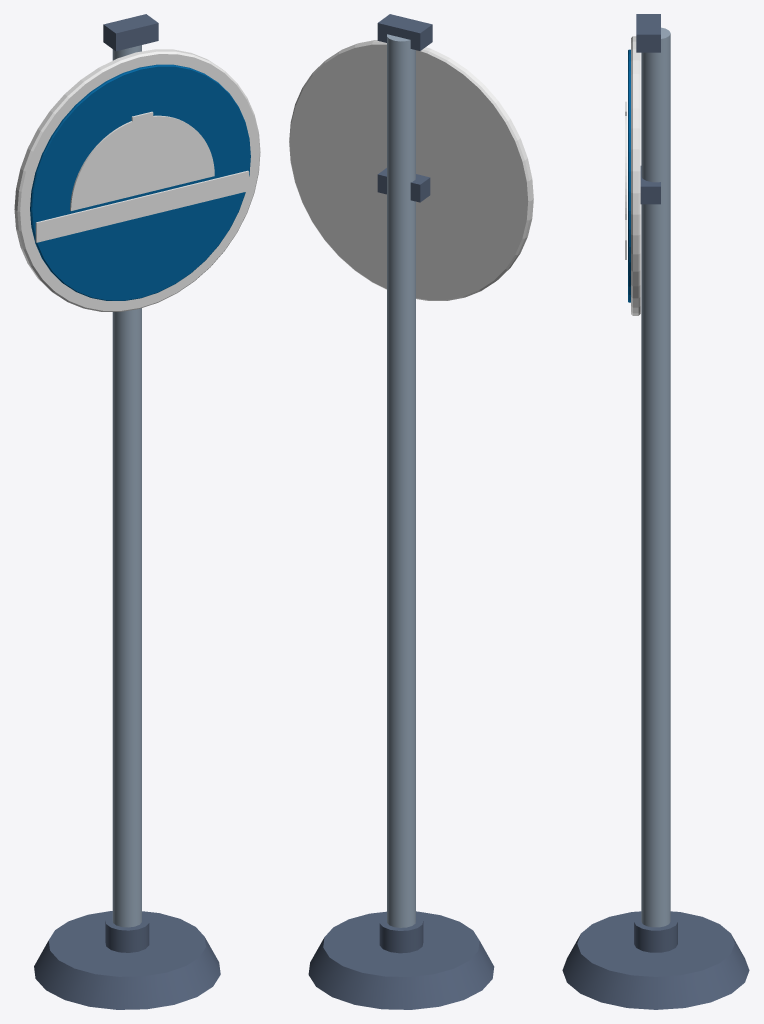
The model's file is panneau-casque.glb.
3 views of the same model, side by side, from view 1: azimuth 30°, elevation 25°; view 2: azimuth 150°, elevation 25°; view 3: azimuth 270°, elevation 25° (orthographic).
Visible parts, largest first — view 1: panneau__bleu_fonce2, panneau__blanc, poteau__bleu_pale, poteau__bleu_fonce, panneau__bleu_fonce; view 2: panneau__blanc, poteau__bleu_pale, poteau__bleu_fonce, panneau__bleu_fonce; view 3: poteau__bleu_pale, poteau__bleu_fonce, panneau__blanc, panneau__bleu_fonce, panneau__bleu_fonce2.
Boxes of the visible parts, x1,y1,x2,y2 form: panneau__bleu_fonce2: (30, 64, 250, 300); panneau__blanc: (14, 49, 260, 311); poteau__bleu_pale: (112, 45, 141, 927); poteau__bleu_fonce: (34, 911, 220, 1009); panneau__bleu_fonce: (103, 14, 158, 51); panneau__blanc: (289, 40, 533, 300); poteau__bleu_pale: (387, 34, 415, 927); poteau__bleu_fonce: (308, 911, 494, 1009); panneau__bleu_fonce: (377, 14, 432, 202); poteau__bleu_pale: (641, 27, 670, 927); poteau__bleu_fonce: (562, 911, 749, 1009); panneau__blanc: (625, 36, 640, 315); panneau__bleu_fonce: (636, 14, 660, 204); panneau__bleu_fonce2: (628, 49, 630, 302).
Size of the model in its own units: 0.5627 by 2.1 by 0.3764.
